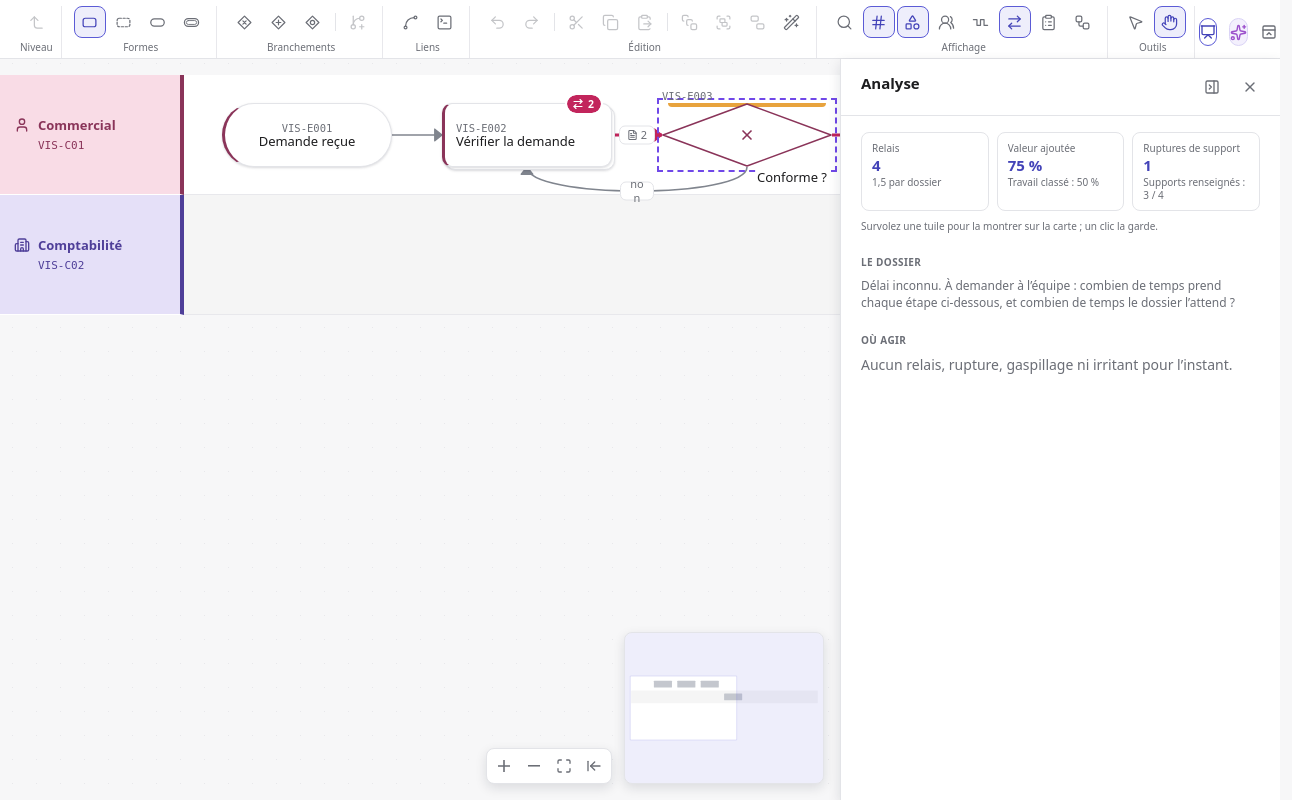
Test: the panel « Analysis » (plan 3.1) › turns its layer off when closed, and the focus goes with it
Click the button with test id "analysis-tile-handoffs".
click(925, 172)  # box [861,132,989,211]
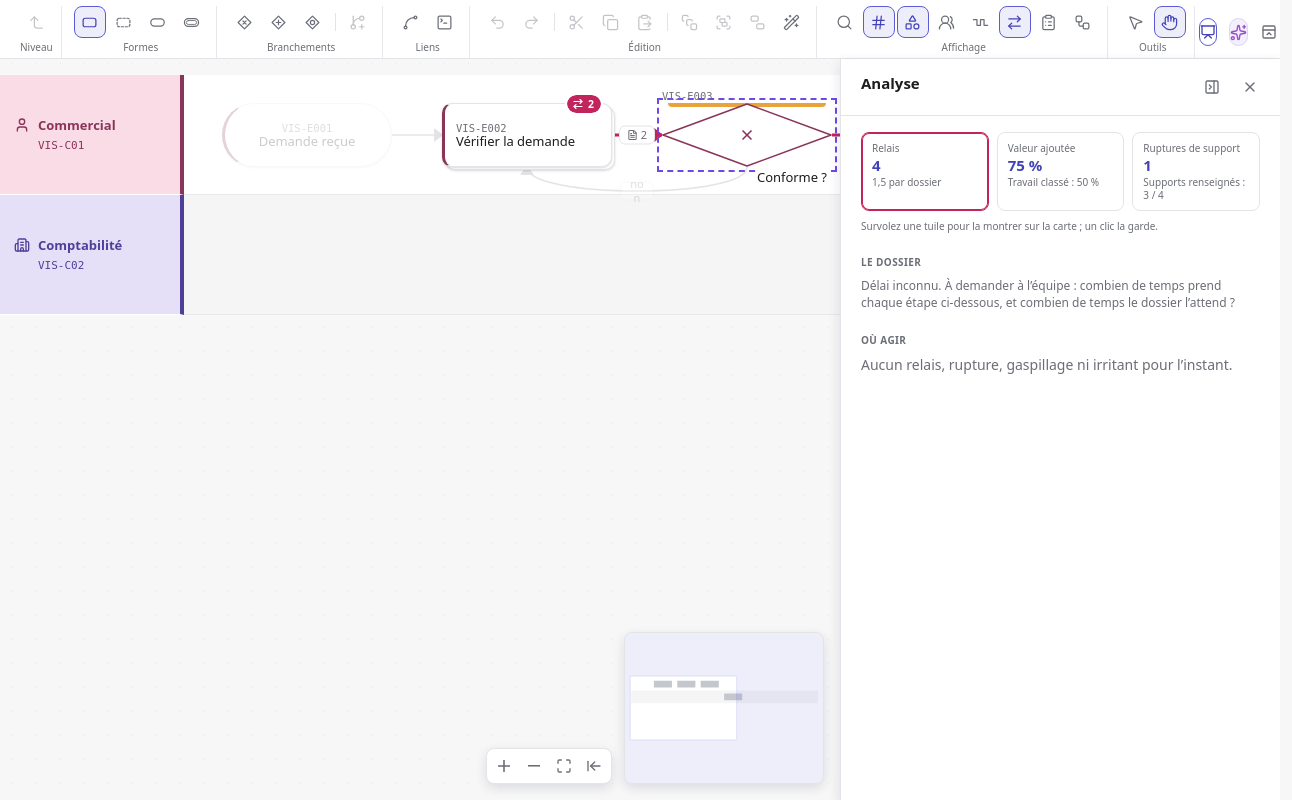
Click the button with test id "analysis-panel-close".
click(1250, 87)  # box [1236,73,1264,101]
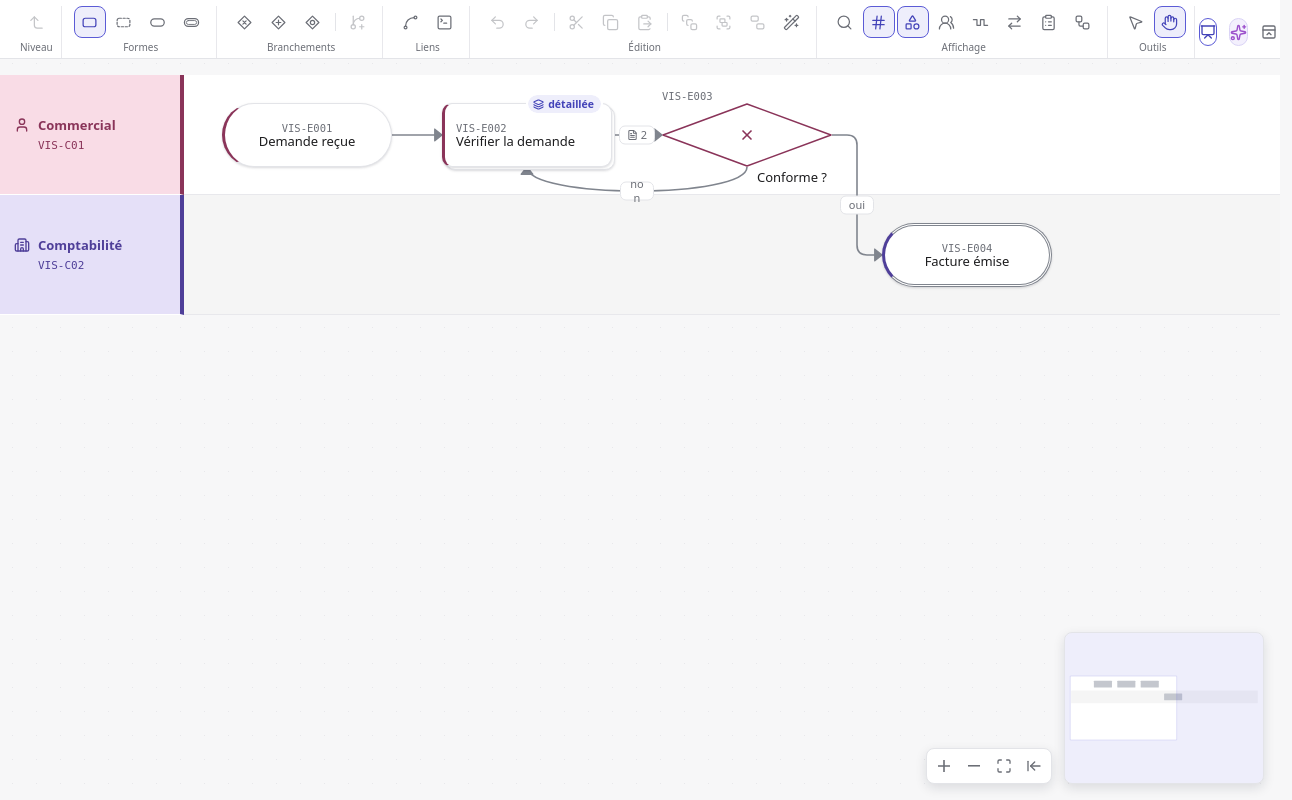
Expected: the element with test id "analysis-panel" is gone
